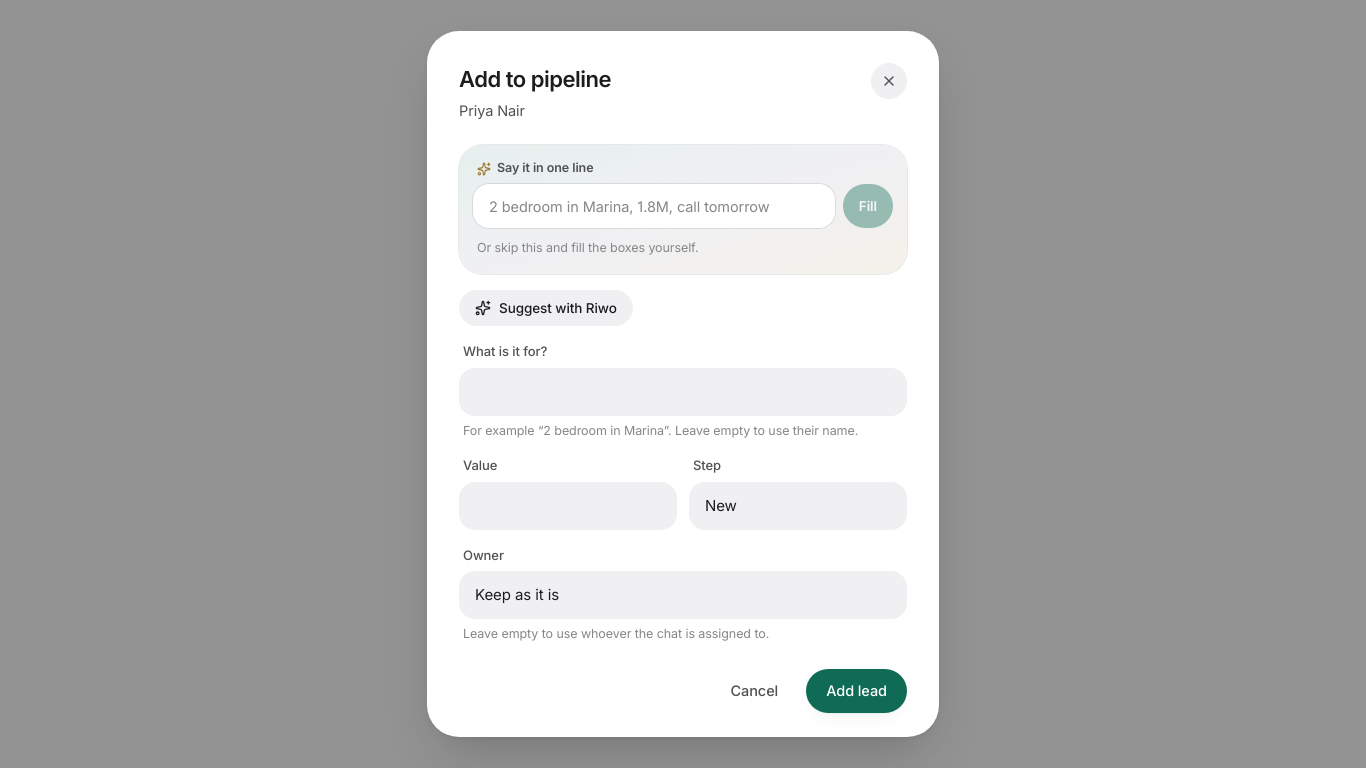
Scenario: adding a lead › lets Riwo suggest the details, which stay editable and are never saved by themselves
Click the button "Suggest with Riwo" at (546, 308), box [459, 290, 633, 326]
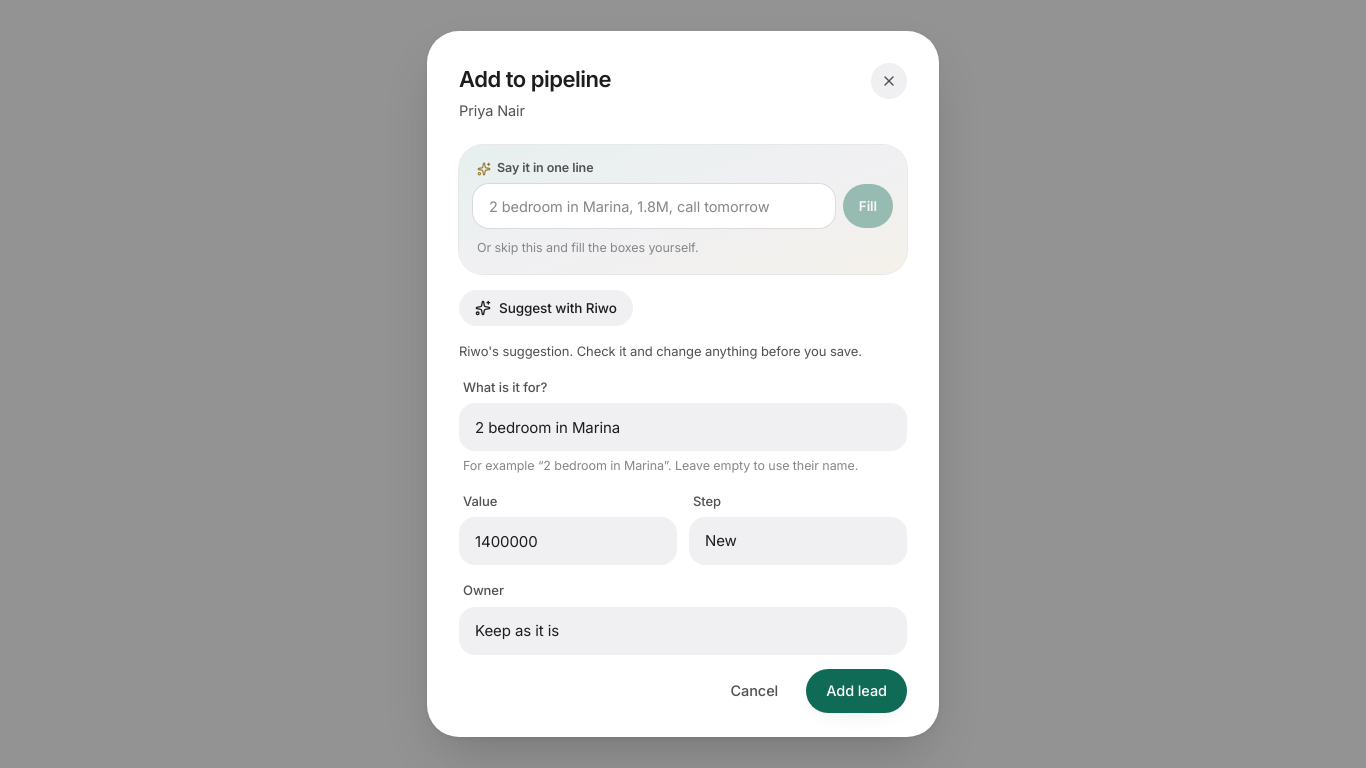
Now the field labelled "What is it for?" holds "2 bedroom in Marina", box [459, 403, 907, 451]
Now the number field labelled "Value" holds "1400000", box [459, 518, 677, 566]
Now the text "Riwo's suggestion. Check it" is shown, box [459, 343, 862, 359]
